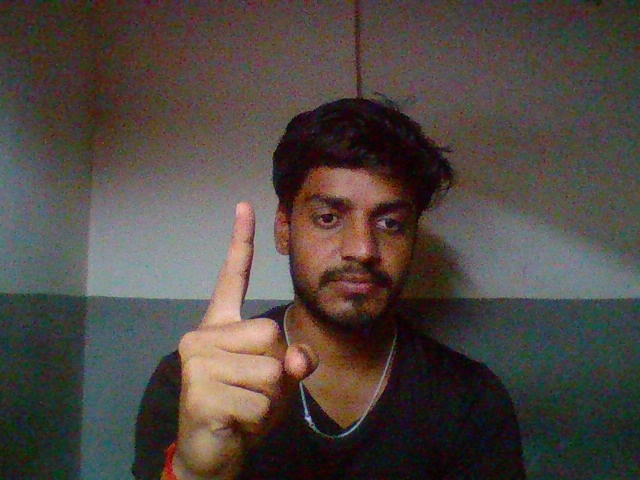I: (156, 192, 329, 460)
